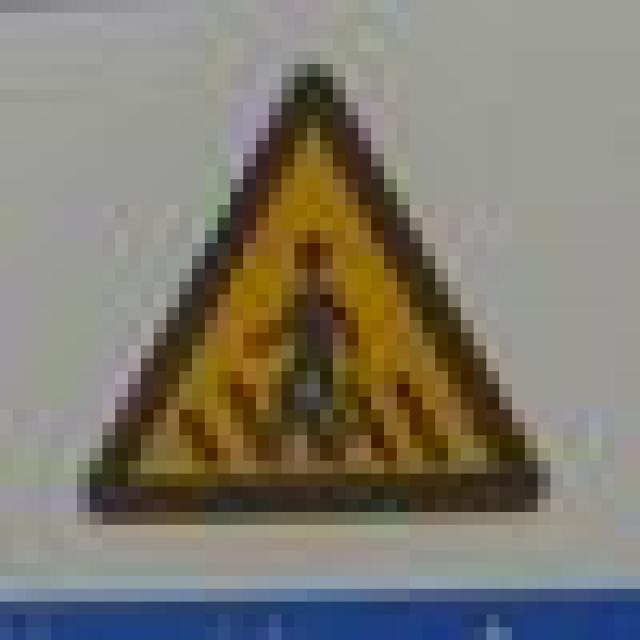pass_either_side: (64, 38, 538, 512)
